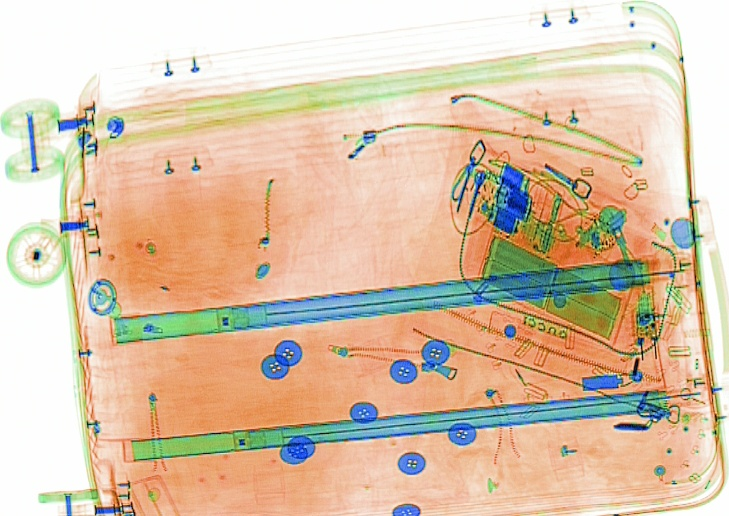powerbank: (475, 202, 636, 350)
